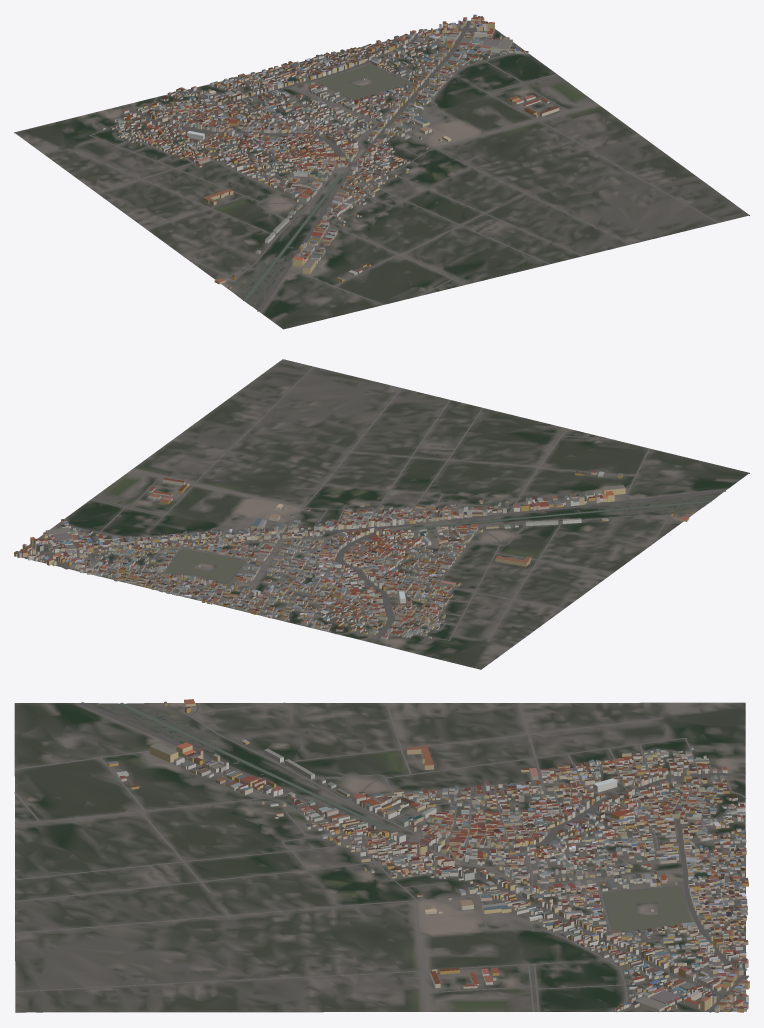
3 renders of one model, top to bottom at view 1: azimuth 30°, elevation 25°; view 2: azimuth 150°, elevation 25°; view 3: azimuth 270°, elevation 25°, orthographic. The views are drawn at different scales.
Visible parts, largest first — view 1: ground, buildings, roads, water; view 2: ground, buildings, roads, water; view 3: ground, buildings, roads, water.
Part boxes in pixels (x1,y1,x2,y2): ground: (14,23,749,329); buildings: (102,14,559,288); roads: (68,20,718,311); water: (239,65,409,305); ground: (14,359,749,669); buildings: (14,471,694,639); roads: (24,366,725,642); water: (166,494,716,594); ground: (14,702,745,1012); buildings: (107,699,749,1012); roads: (14,702,748,1012); water: (99,702,709,931).
Size of the model in its own units: 1416 by 27.55 by 1412.
